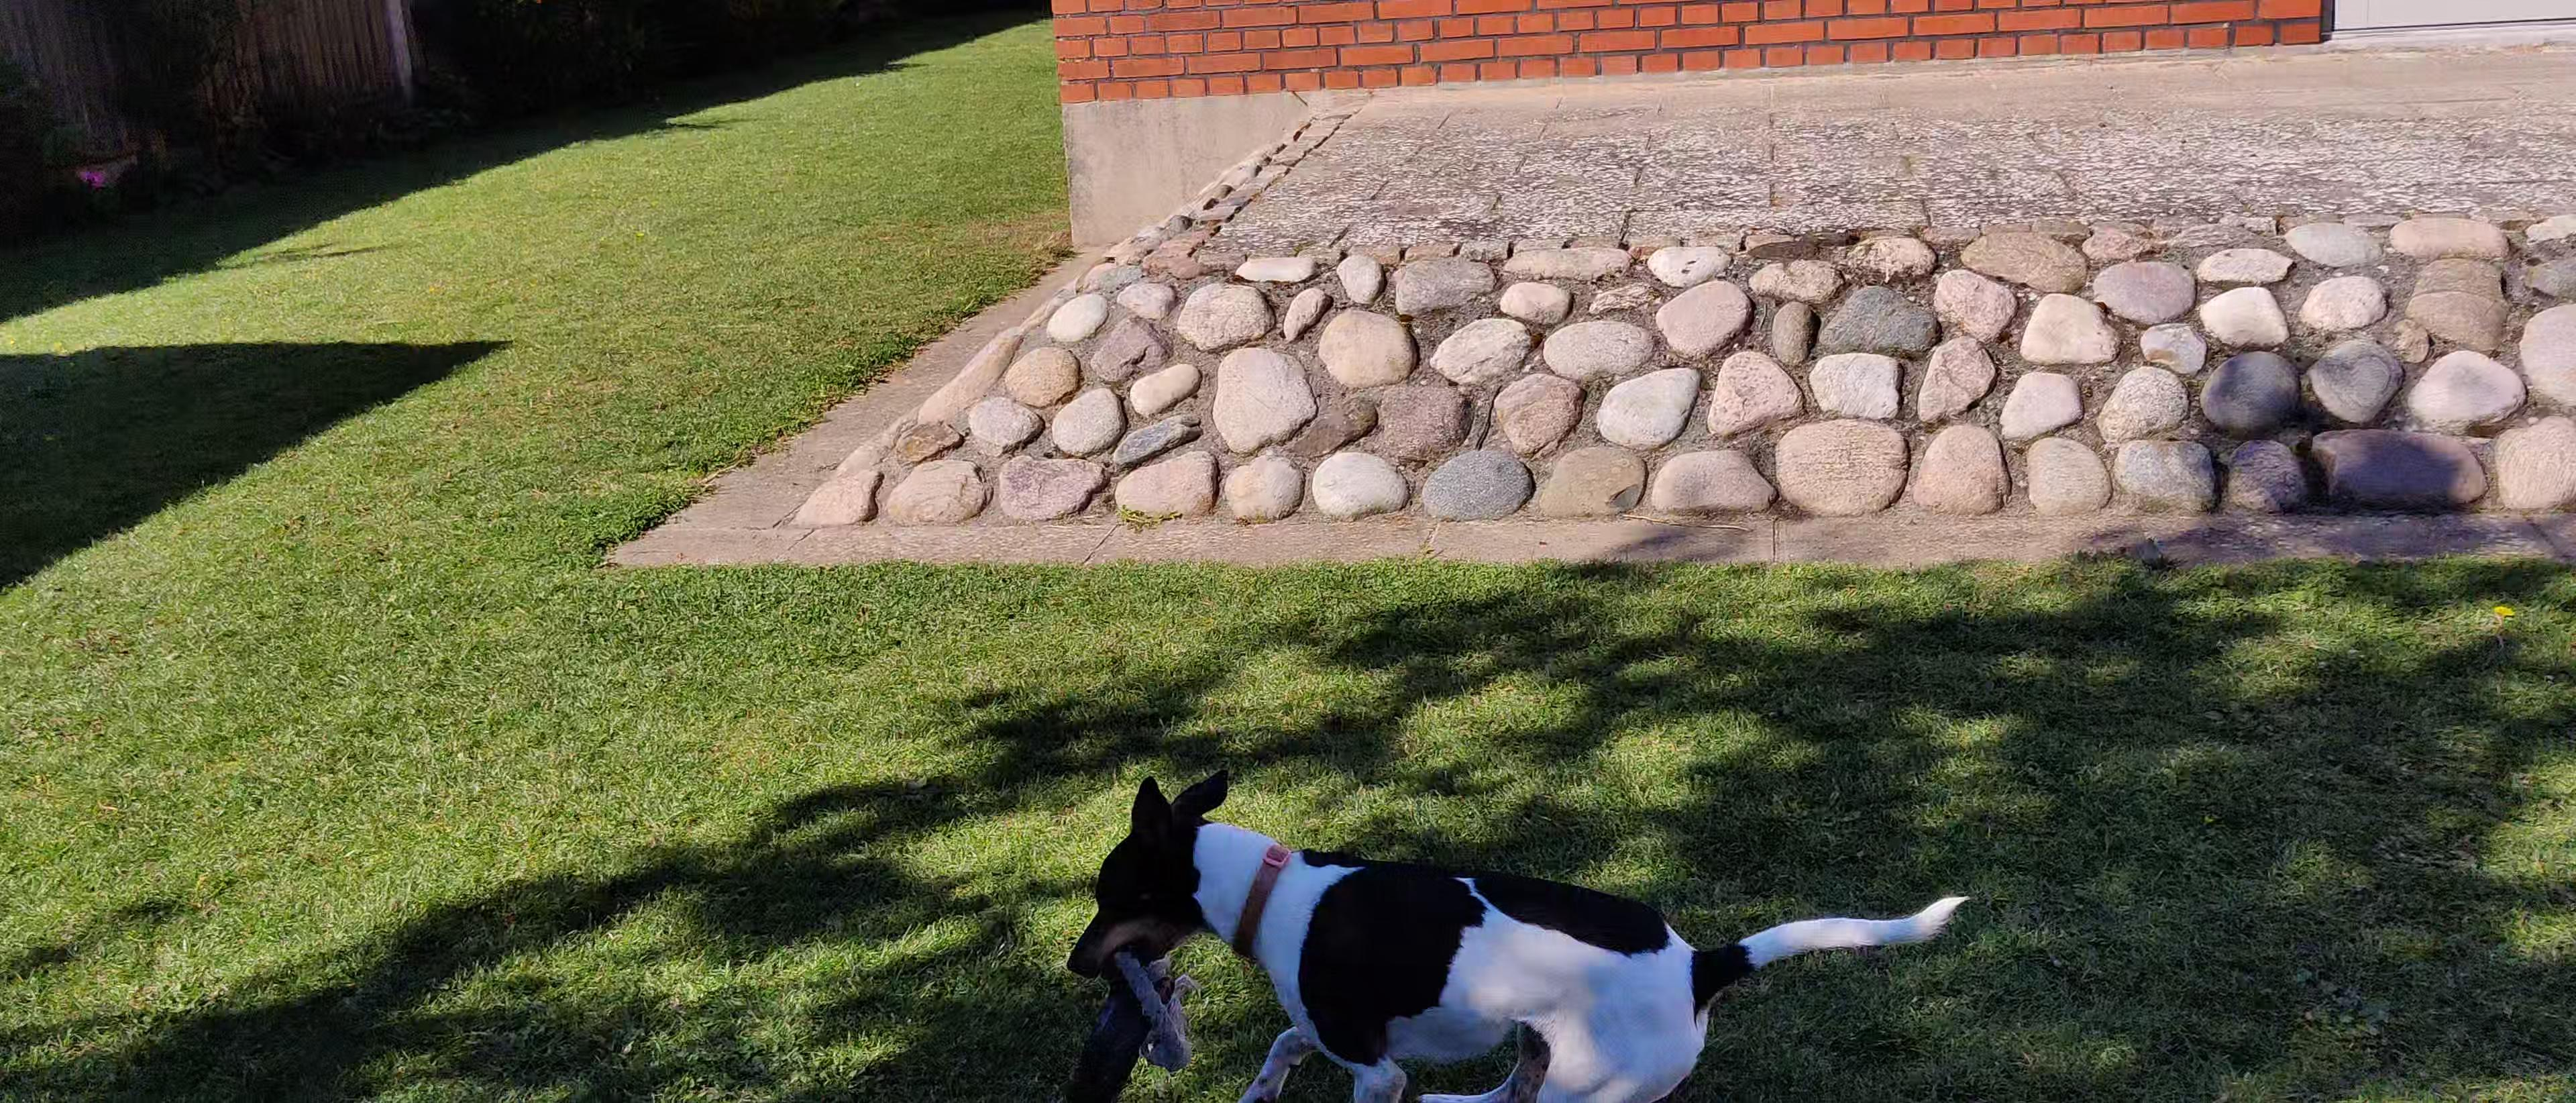Dog: (1058, 761, 1980, 1103)
